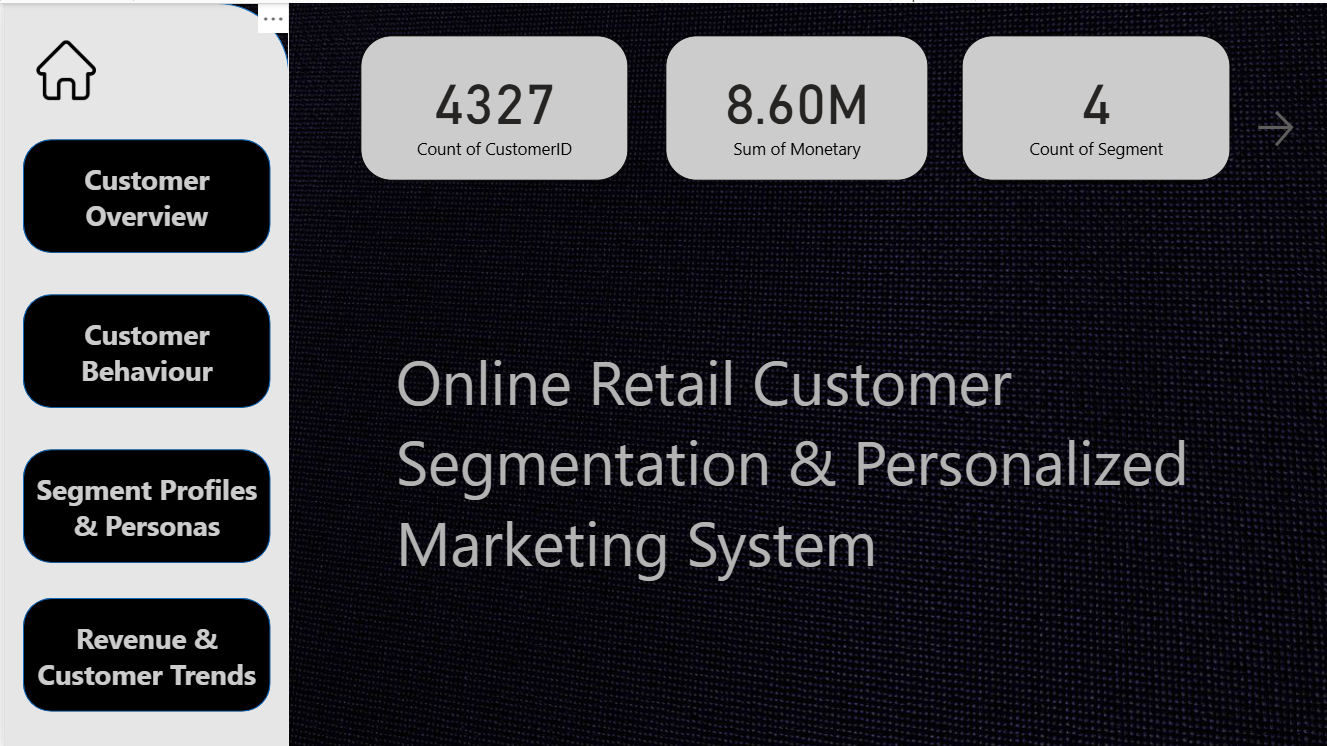

What the dashboard file says about the page in this screenshot:
{"tool":"powerbi","page":{"name":"Home Page","canvas":[1280,720],"ordinal":0},"visuals":[{"type":"shape","box":[0,0,276.3,720.2],"z":0},{"type":"shape","title":"Cu","box":[19.3,131.5,238.9,109.8],"z":1000},{"type":"shape","box":[19.3,281.1,238.9,109.8],"z":2000},{"type":"shape","box":[19.3,430.7,238.9,109.8],"z":3000},{"type":"shape","box":[19.3,574.3,238.9,109.8],"z":4000},{"type":"image","box":[19.3,31.4,83.2,67.6],"z":5000},{"type":"textbox","box":[374,319.7,775.7,364.3],"z":6000},{"type":"card","fields":{"Values":["CountNonNull(Customer_Features.CustomerID)"]},"box":[345,31.4,258.2,139.9],"z":7000},{"type":"card","fields":{"Values":["Sum(Customer_Features.Monetary)"]},"box":[639.4,31.4,253.4,139.9],"z":8000},{"type":"card","fields":{"Values":["Count(Customer_Features.Segment)"]},"box":[925.3,31.4,259.4,139.9],"z":9000},{"type":"actionButton","box":[1205.2,98.9,62.7,44.6],"z":9001}]}

Visuals, with their boxes on the page's 1280x720 design canvas (x1, y1, x2, y2). These are canvas units, not pixel positions in the 1327x746 screenshot, which may show the page scaled, cropped or inside an application window:
shape: {"x1": 0, "y1": 0, "x2": 276, "y2": 720}
"Cu" shape: {"x1": 19, "y1": 132, "x2": 258, "y2": 241}
shape: {"x1": 19, "y1": 281, "x2": 258, "y2": 391}
shape: {"x1": 19, "y1": 431, "x2": 258, "y2": 540}
shape: {"x1": 19, "y1": 574, "x2": 258, "y2": 684}
image: {"x1": 19, "y1": 31, "x2": 102, "y2": 99}
textbox: {"x1": 374, "y1": 320, "x2": 1150, "y2": 684}
card - CountNonNull(Customer_Features.CustomerID): {"x1": 345, "y1": 31, "x2": 603, "y2": 171}
card - Sum(Customer_Features.Monetary): {"x1": 639, "y1": 31, "x2": 893, "y2": 171}
card - Count(Customer_Features.Segment): {"x1": 925, "y1": 31, "x2": 1185, "y2": 171}
actionButton: {"x1": 1205, "y1": 99, "x2": 1268, "y2": 144}
